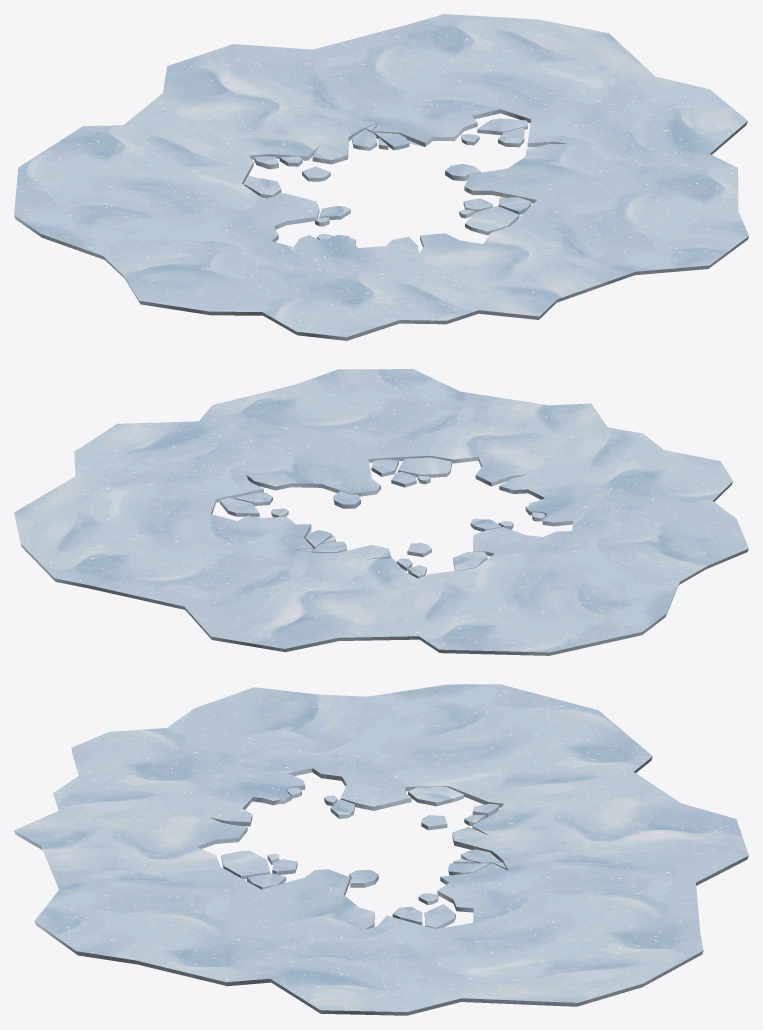
File: P_ENV_ice_big_01.gltf
3 views of the same model, one above another, from view 1: azimuth 30°, elevation 25°; view 2: azimuth 150°, elevation 25°; view 3: azimuth 270°, elevation 25° (orthographic). The views are drawn at different scales.
Parts seen in each view (by area): view 1: P_ENV_ice_big_01(Clone); view 2: P_ENV_ice_big_01(Clone); view 3: P_ENV_ice_big_01(Clone).
Part boxes in pixels (x1=…): P_ENV_ice_big_01(Clone): x1=14, y1=14, x2=748, y2=340; P_ENV_ice_big_01(Clone): x1=14, y1=369, x2=748, y2=655; P_ENV_ice_big_01(Clone): x1=14, y1=684, x2=748, y2=1015.
Bounding box in the file's own units: 35.4 × 0.3107 × 33.53.
1 material, 1 textured.
